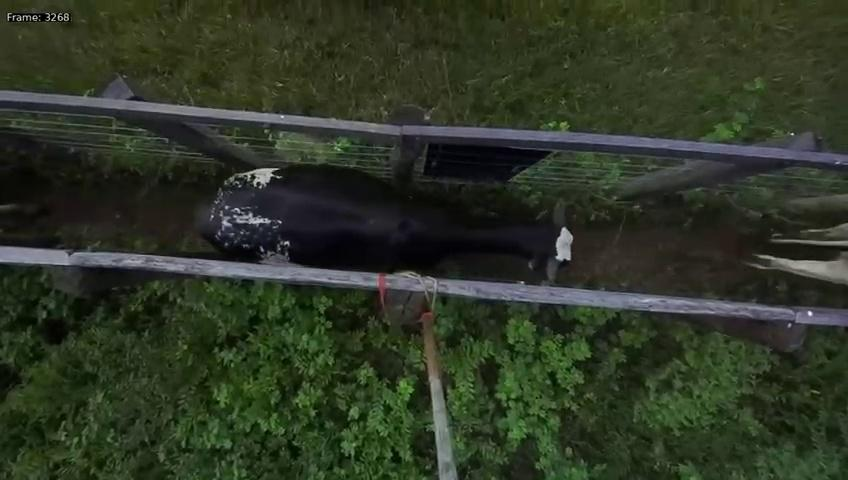cattle: (190, 151, 581, 288)
